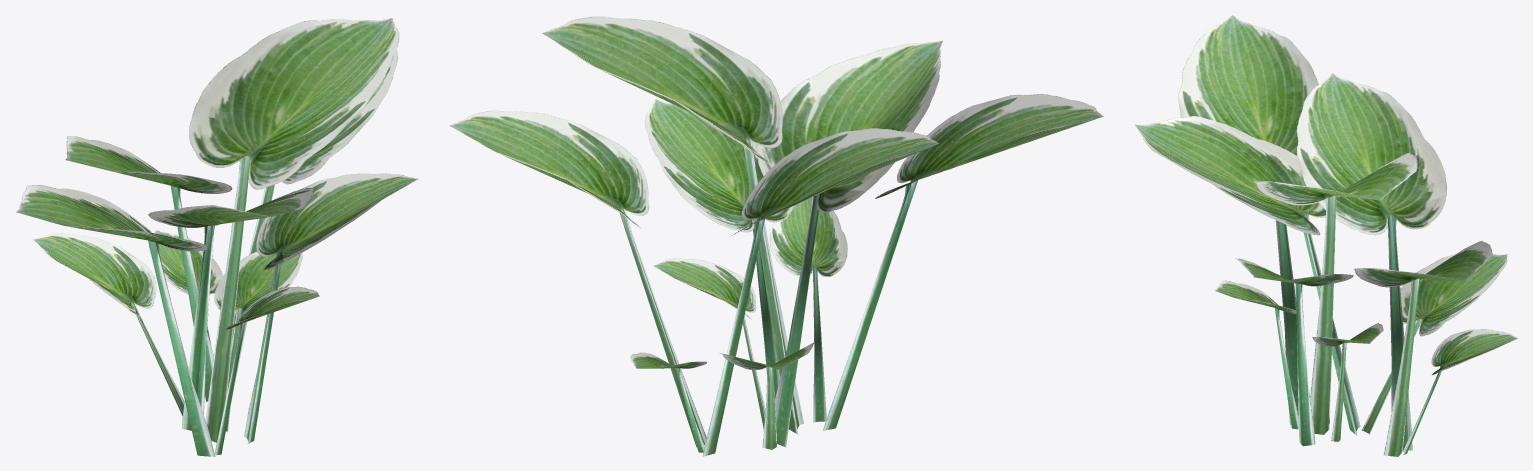
File: plant_small_wg_05W.fbx
3 views of the same model, side by side, from view 1: azimuth 30°, elevation 25°; view 2: azimuth 150°, elevation 25°; view 3: azimuth 270°, elevation 25° (orthographic). The views are drawn at different scales.
Parts seen in each view (by area): view 1: plant_small_wg_05W; view 2: plant_small_wg_05W; view 3: plant_small_wg_05W.
Boxes of the visible parts, bbox=[...] form: plant_small_wg_05W: bbox=[16, 18, 418, 456]; plant_small_wg_05W: bbox=[449, 16, 1103, 456]; plant_small_wg_05W: bbox=[1134, 15, 1517, 456].
Bounding box in the file's own units: 56.96 × 38.33 × 40.36.
